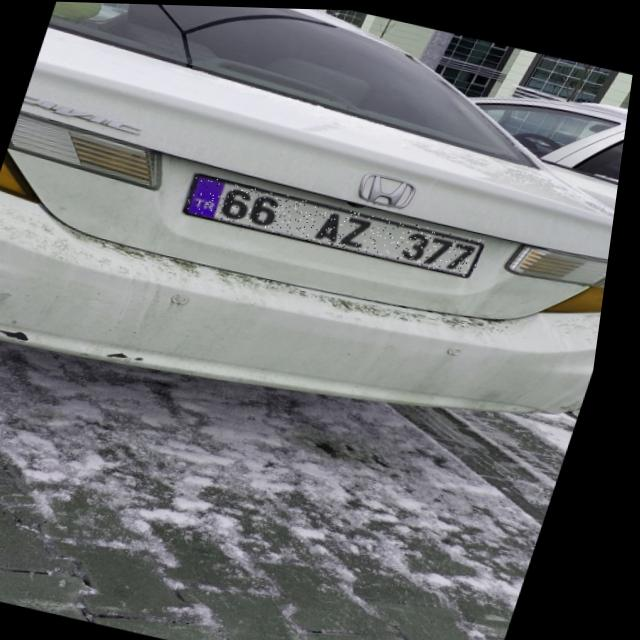license_plate: (182, 172, 497, 275)
